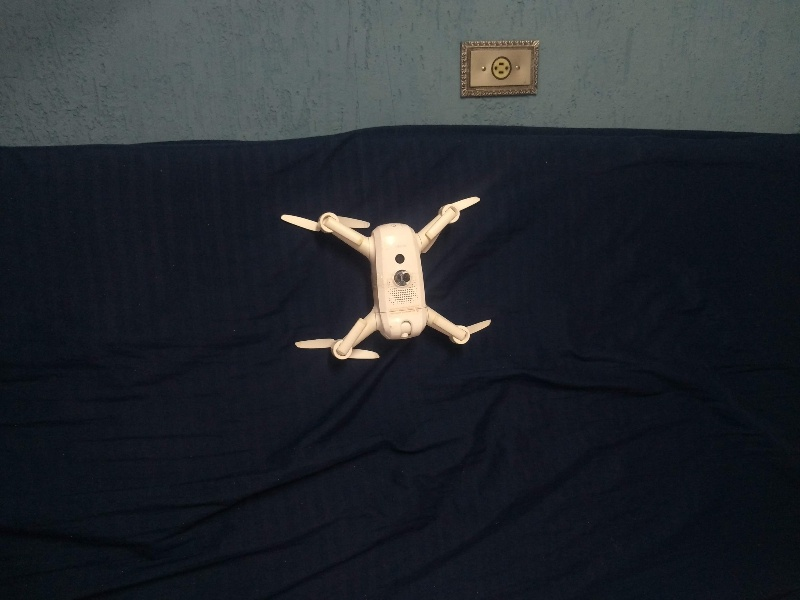drone: (275, 190, 510, 363)
